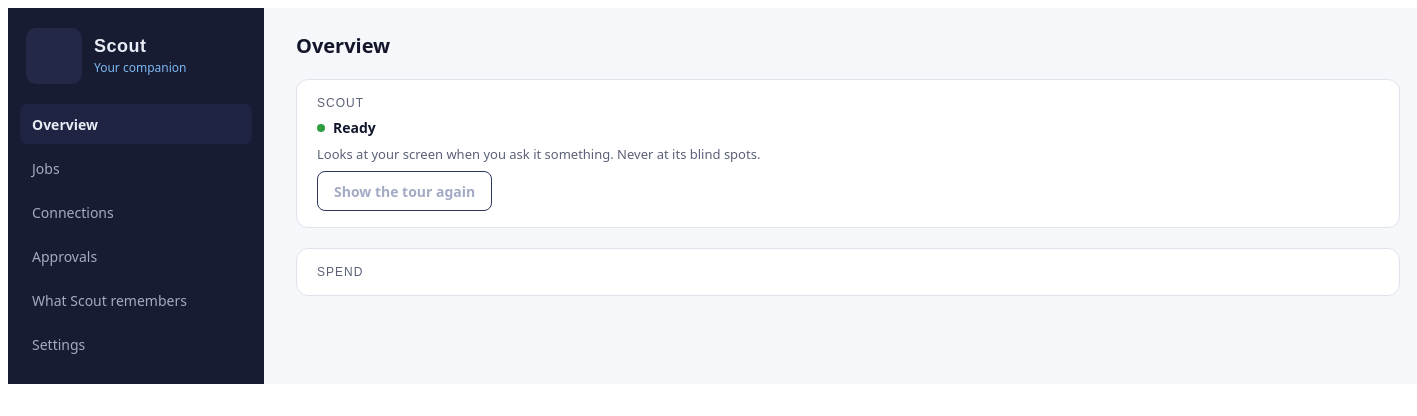
Test: HomeView › home nav has an Approvals item that opens the page
The image size is (1417, 416).
Click the button "Approvals": {"x": 136, "y": 256} [20,236,252,276]
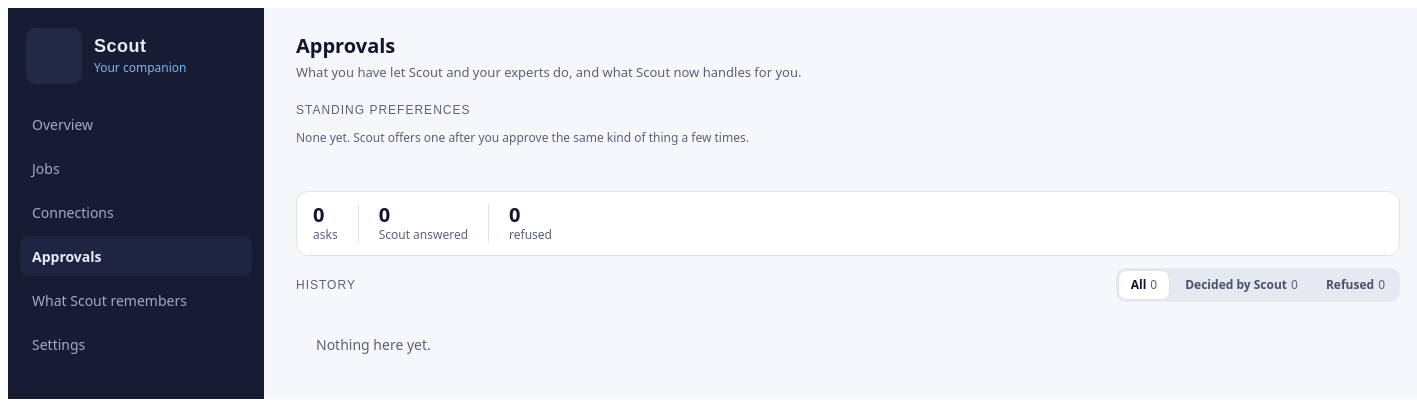
expect the heading "Approvals" is shown: met, box [296,32,395,59]
